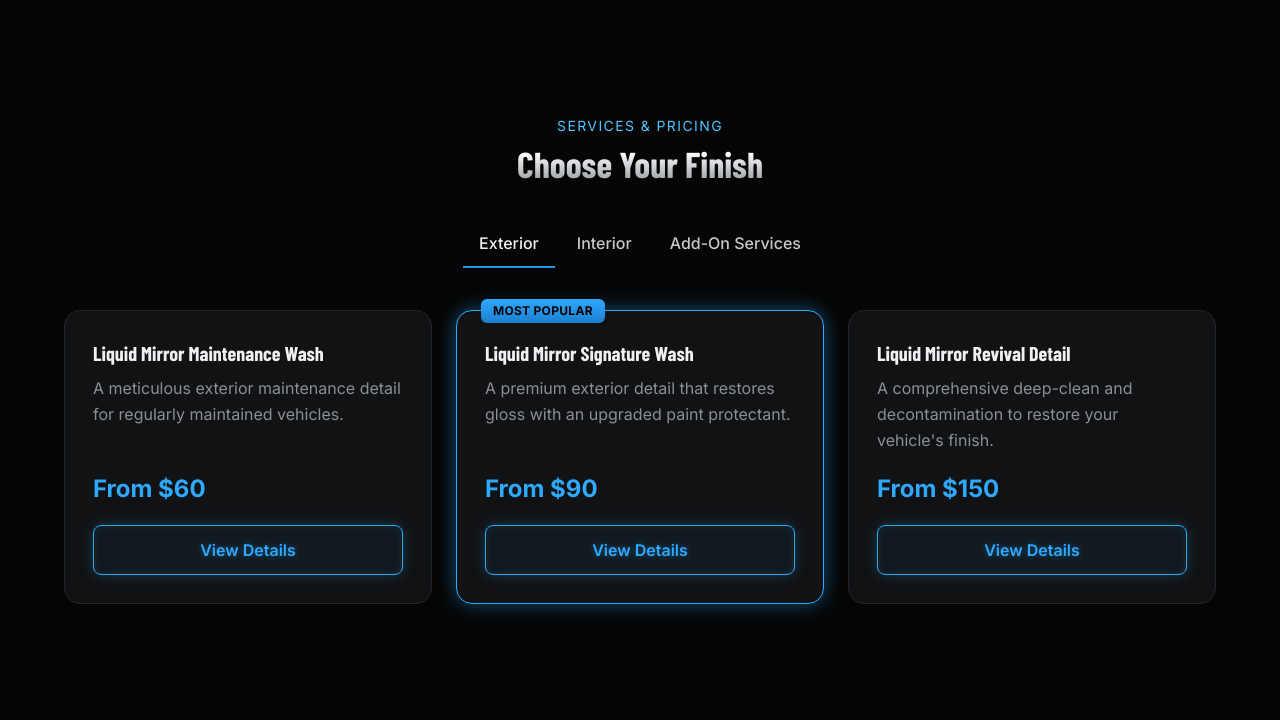
Test: ServicesSection › closes the modal when the close button is clicked
Click the button "View Details" below "From $60" at (248, 550), box [93,525,403,575]
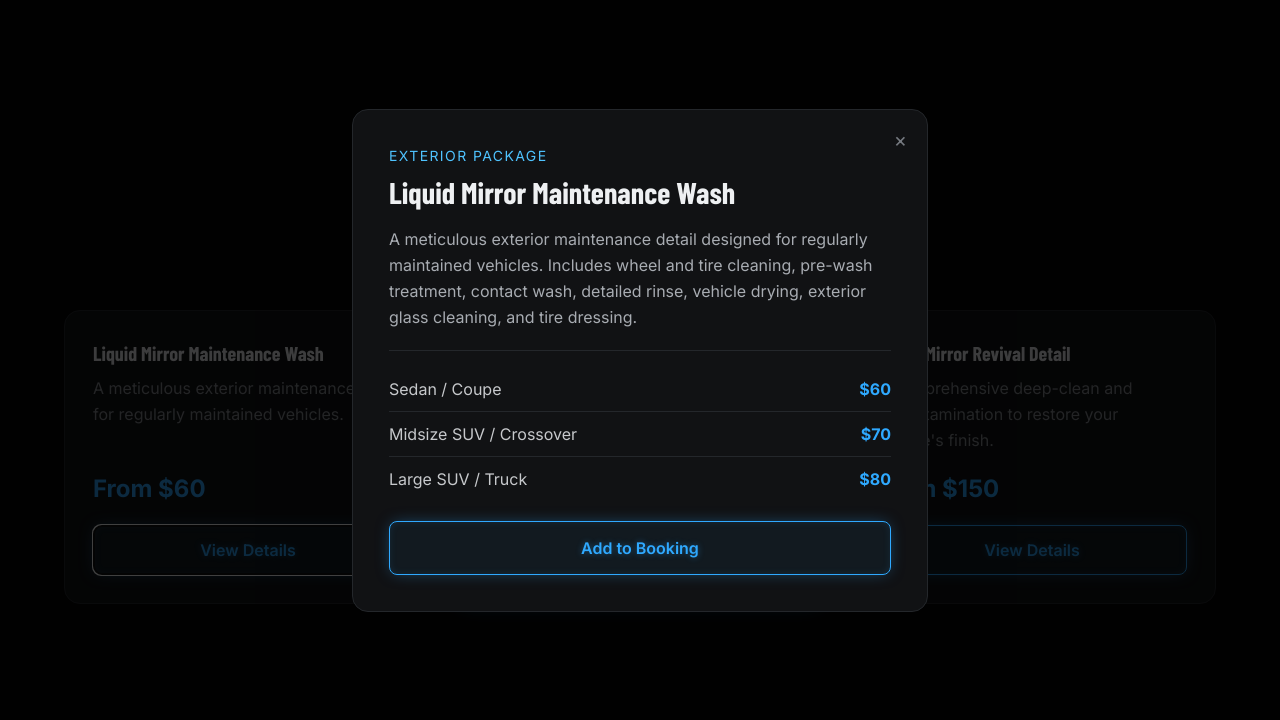
Expected: the dialog is shown
Click the button named "close" at (900, 140), box [894,126,907,154]
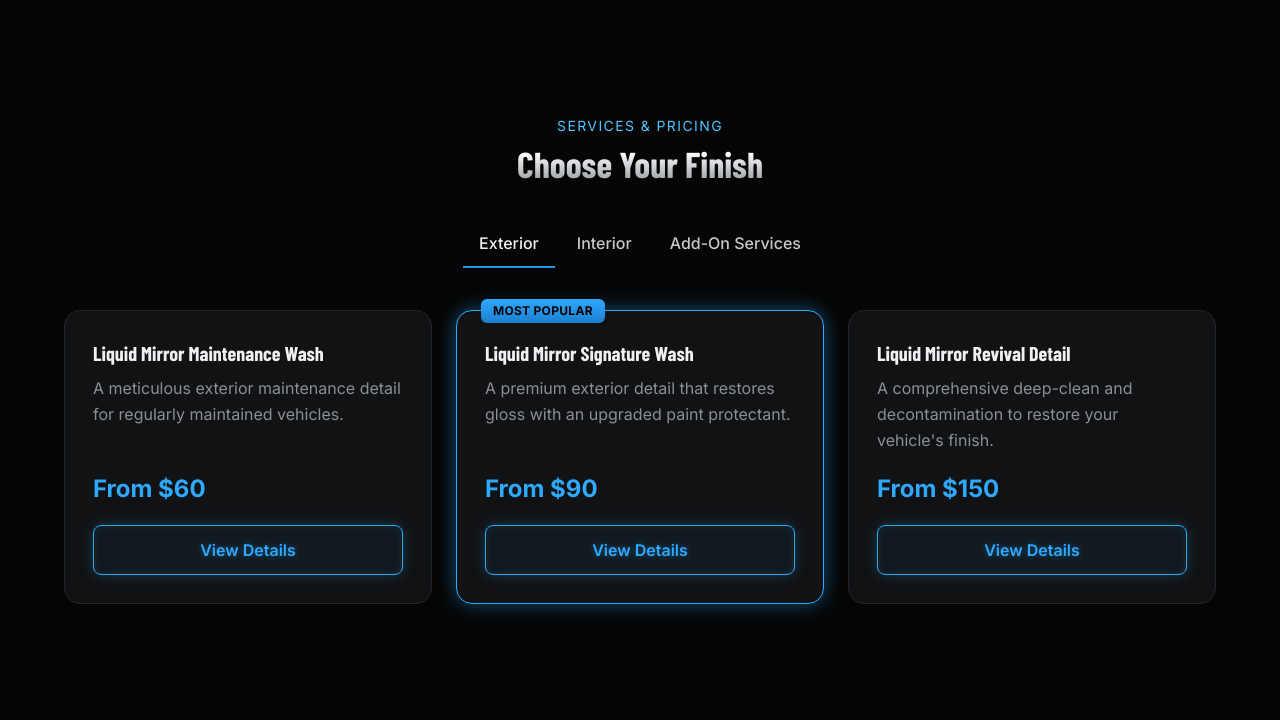
Expected: the dialog is gone
